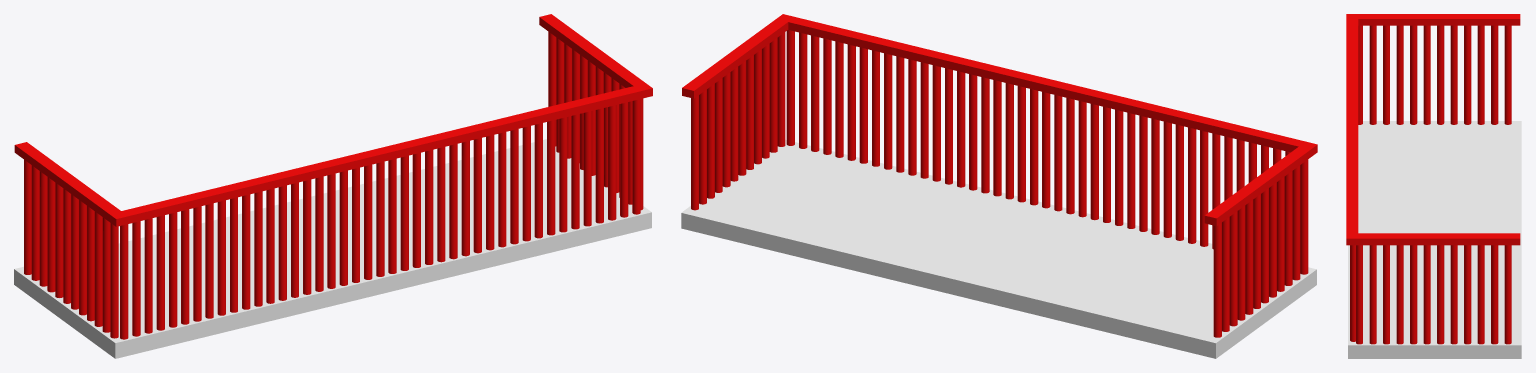
Rendered from balcony.fbx.
3 renders of one model, left to right at view 1: azimuth 30°, elevation 25°; view 2: azimuth 150°, elevation 25°; view 3: azimuth 270°, elevation 25°, orthographic. The views are drawn at different scales.
Visible parts, largest first — view 1: Balcony_Base, pCube42, pasted__pCylinder25, pasted__pCylinder29, pasted__pCylinder98, pasted__pCylinder89, pasted__pCylinder54, pasted__pCylinder92, pasted__pCylinder102, pasted__pCylinder83, pasted__pCylinder33, pasted__pCylinder101 (+51 smaller); view 2: Balcony_Base, pCube42, pasted__pCylinder77, pasted__pCylinder92, pasted__pCylinder83, pasted__pCylinder98, pasted__pCylinder84, pasted__pCylinder81, pasted__pCylinder93, pasted__pCylinder76, pasted__pCylinder41, pasted__pCylinder70 (+51 smaller); view 3: Balcony_Base, pCube42, pasted__pCylinder51, pasted__pCylinder9, pasted__pCylinder7, pasted__pCylinder3, pasted__pCylinder11, pasted__pCylinder5, pasted__pCylinder24, pasted__pCylinder15, pasted__pCylinder20, pasted__pCylinder13 (+16 smaller).
Boxes of the visible parts, x1=… form: Balcony_Base: x1=14, y1=139, x2=651, y2=358; pCube42: x1=14, y1=14, x2=652, y2=226; pasted__pCylinder25: x1=120, y1=224, x2=128, y2=339; pasted__pCylinder29: x1=169, y1=212, x2=177, y2=327; pasted__pCylinder98: x1=571, y1=114, x2=579, y2=229; pasted__pCylinder89: x1=547, y1=120, x2=555, y2=235; pasted__pCylinder54: x1=254, y1=191, x2=262, y2=306; pasted__pCylinder92: x1=498, y1=132, x2=506, y2=247; pasted__pCylinder102: x1=559, y1=117, x2=567, y2=232; pasted__pCylinder83: x1=486, y1=135, x2=494, y2=250; pasted__pCylinder33: x1=242, y1=194, x2=250, y2=309; pasted__pCylinder101: x1=608, y1=105, x2=616, y2=220; Balcony_Base: x1=681, y1=139, x2=1316, y2=358; pCube42: x1=682, y1=14, x2=1317, y2=226; pasted__pCylinder77: x1=1017, y1=86, x2=1025, y2=202; pasted__pCylinder92: x1=920, y1=62, x2=928, y2=178; pasted__pCylinder83: x1=932, y1=65, x2=940, y2=181; pasted__pCylinder98: x1=847, y1=44, x2=855, y2=160; pasted__pCylinder84: x1=981, y1=77, x2=989, y2=193; pasted__pCylinder81: x1=896, y1=56, x2=904, y2=172; pasted__pCylinder93: x1=993, y1=80, x2=1001, y2=196; pasted__pCylinder76: x1=969, y1=74, x2=977, y2=190; pasted__pCylinder41: x1=1066, y1=97, x2=1074, y2=214; pasted__pCylinder70: x1=1005, y1=83, x2=1013, y2=199; Balcony_Base: x1=1348, y1=121, x2=1521, y2=358; pCube42: x1=1346, y1=14, x2=1520, y2=245; pasted__pCylinder51: x1=1491, y1=25, x2=1498, y2=124; pasted__pCylinder9: x1=1396, y1=25, x2=1403, y2=124; pasted__pCylinder7: x1=1423, y1=25, x2=1430, y2=124; pasted__pCylinder3: x1=1477, y1=25, x2=1484, y2=124; pasted__pCylinder11: x1=1369, y1=25, x2=1376, y2=124; pasted__pCylinder5: x1=1450, y1=25, x2=1457, y2=124; pasted__pCylinder24: x1=1477, y1=245, x2=1484, y2=344; pasted__pCylinder15: x1=1423, y1=245, x2=1430, y2=344; pasted__pCylinder20: x1=1437, y1=245, x2=1444, y2=344; pasted__pCylinder13: x1=1504, y1=245, x2=1511, y2=344.
Bounding box in the file's own units: 12.7 × 3.18 × 4.19.
